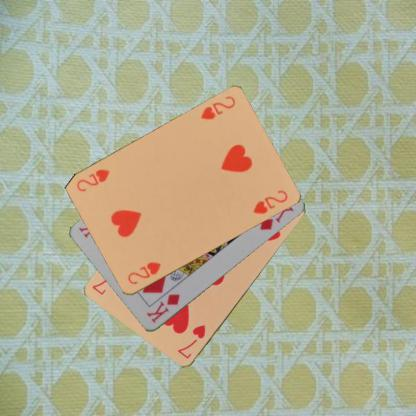2h: (198, 94, 237, 121), (125, 259, 162, 286)
7h: (175, 323, 207, 360)
Kd: (144, 291, 182, 325)
